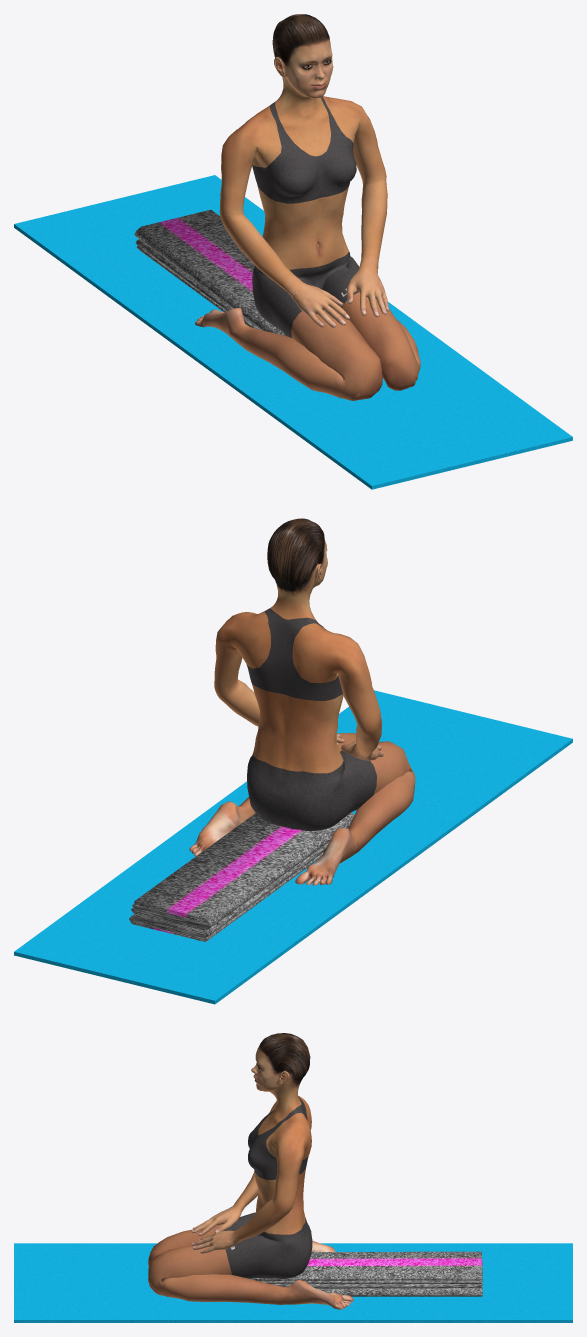
File: virasana.glb
3 views of the same model, one above another, from view 1: azimuth 30°, elevation 25°; view 2: azimuth 150°, elevation 25°; view 3: azimuth 270°, elevation 25° (orthographic). The views are drawn at different scales.
Visible parts, largest first — view 1: Lily_Texture01_06_2016_jpg-material, Mat-one-piece_jpg-material, StripePink2OnBlanketLowRes_jpg-material (×2); view 2: Mat-one-piece_jpg-material, Lily_Texture01_06_2016_jpg-material, StripePink2OnBlanketLowRes_jpg-material (×2); view 3: Mat-one-piece_jpg-material, Lily_Texture01_06_2016_jpg-material, StripePink2OnBlanketLowRes_jpg-material (×2).
Part boxes in pixels (<box>): Lily_Texture01_06_2016_jpg-material: <box>195,14,420,400</box>; Mat-one-piece_jpg-material: <box>14,175,572,489</box>; StripePink2OnBlanketLowRes_jpg-material (×2): <box>134,209,285,335</box>; Mat-one-piece_jpg-material: <box>14,690,572,1004</box>; Lily_Texture01_06_2016_jpg-material: <box>189,518,415,885</box>; StripePink2OnBlanketLowRes_jpg-material (×2): <box>129,812,354,941</box>; Mat-one-piece_jpg-material: <box>14,1243,572,1322</box>; Lily_Texture01_06_2016_jpg-material: <box>148,1033,353,1309</box>; StripePink2OnBlanketLowRes_jpg-material (×2): <box>253,1251,482,1296</box>.
Bounding box in the file's own units: 2 × 3.05 × 6.17.
Materials: 4 (3 with a texture image).
